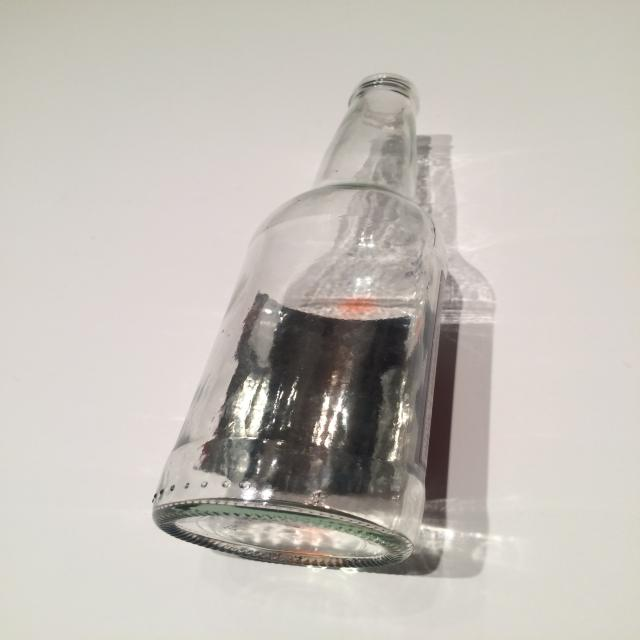glass: (150, 72, 448, 570)
